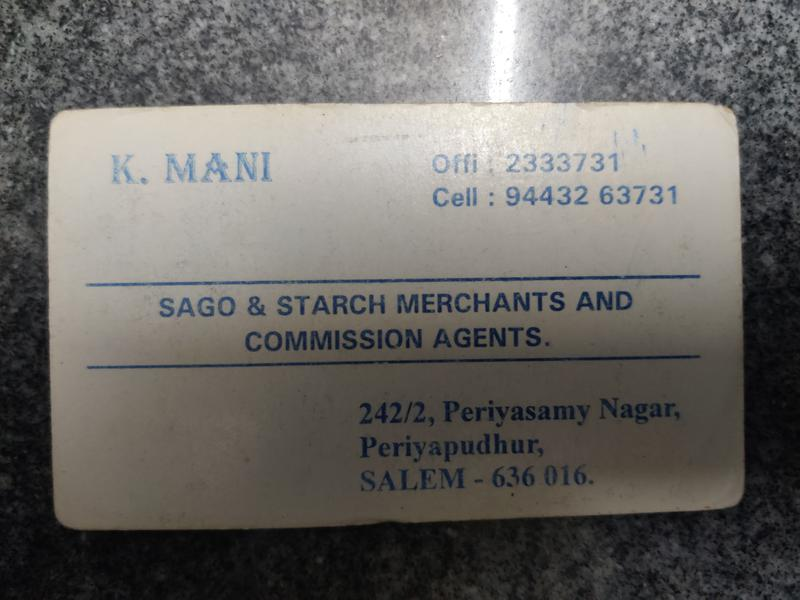card: (45, 101, 745, 531)
